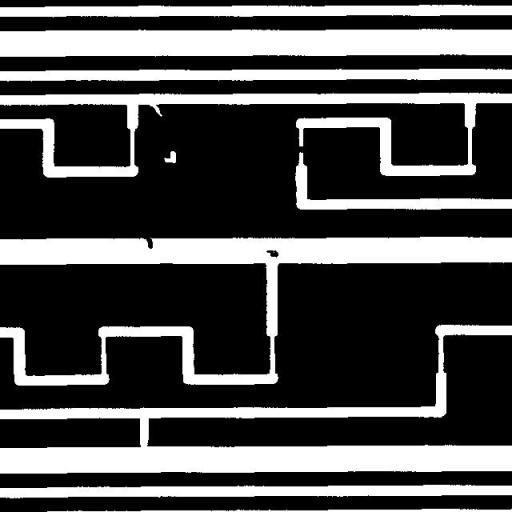copper: (258, 242, 286, 265)
mousebite: (142, 96, 170, 124)
open: (132, 406, 156, 456)
pin-hole: (156, 144, 183, 170)
short: (288, 138, 314, 160)
spur: (135, 227, 160, 256)
